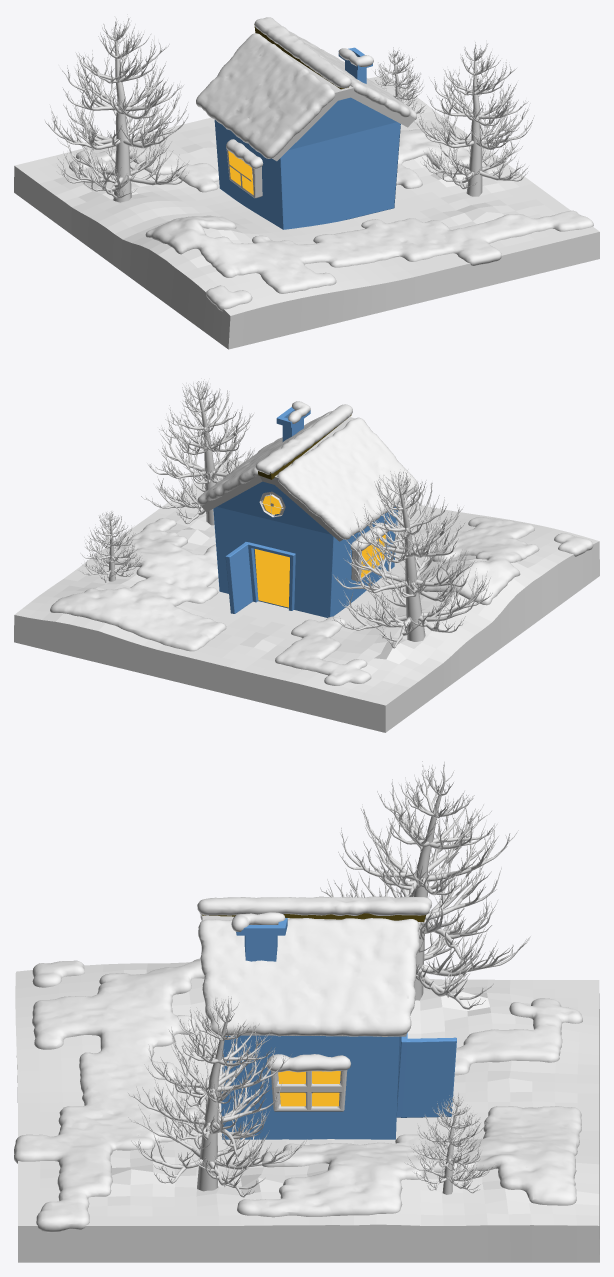
Rendered from winter-casa.glb.
3 views of the same model, one above another, from view 1: azimuth 30°, elevation 25°; view 2: azimuth 150°, elevation 25°; view 3: azimuth 270°, elevation 25° (orthographic). The views are drawn at different scales.
Parts seen in each view (by area): view 1: Plane.006, SnowBall.001, Plane, tree.001, SnowBall.002, tree, SnowBall.005, Plane.001, tree.002, Plane.007, SnowBall.004, Plane.004; view 2: Plane.006, SnowBall.001, Plane, tree.001, SnowBall.002, tree, tree.002, SnowBall.005, Plane.009, Plane.001, Plane.005; view 3: Plane.006, SnowBall.001, SnowBall.002, Plane, tree.001, tree, SnowBall.005, tree.002, Plane.003, Plane.008, Plane.005, SnowBall.003 (+2 smaller).
Part boxes in pixels (x1=…): Plane.006: x1=14, y1=75, x2=599, y2=349; SnowBall.001: x1=69, y1=127, x2=593, y2=311; Plane: x1=214, y1=97, x2=400, y2=229; tree.001: x1=45, y1=14, x2=188, y2=202; SnowBall.002: x1=196, y1=31, x2=416, y2=158; tree: x1=414, y1=40, x2=534, y2=196; SnowBall.005: x1=254, y1=17, x2=351, y2=88; Plane.001: x1=268, y1=41, x2=415, y2=161; tree.002: x1=372, y1=47, x2=425, y2=113; Plane.007: x1=228, y1=151, x2=253, y2=194; SnowBall.004: x1=226, y1=139, x2=263, y2=168; Plane.004: x1=226, y1=149, x2=262, y2=198; Plane.006: x1=14, y1=458, x2=599, y2=732; SnowBall.001: x1=50, y1=461, x2=593, y2=685; Plane: x1=213, y1=481, x2=398, y2=617; tree.001: x1=328, y1=469, x2=492, y2=648; SnowBall.002: x1=197, y1=411, x2=418, y2=539; tree: x1=141, y1=379, x2=254, y2=525; tree.002: x1=78, y1=511, x2=142, y2=582; SnowBall.005: x1=255, y1=404, x2=352, y2=474; Plane.009: x1=254, y1=549, x2=289, y2=607; Plane.001: x1=198, y1=417, x2=355, y2=541; Plane.005: x1=276, y1=407, x2=310, y2=441; Plane.006: x1=15, y1=962, x2=599, y2=1262; SnowBall.001: x1=14, y1=958, x2=582, y2=1232; SnowBall.002: x1=198, y1=913, x2=419, y2=1036; Plane: x1=221, y1=1033, x2=456, y2=1139; tree.001: x1=320, y1=761, x2=530, y2=1009; tree: x1=128, y1=996, x2=307, y2=1197; SnowBall.005: x1=197, y1=896, x2=431, y2=915; tree.002: x1=404, y1=1093, x2=494, y2=1194; Plane.003: x1=271, y1=1070, x2=347, y2=1111; Plane.008: x1=278, y1=1071, x2=340, y2=1106; Plane.005: x1=236, y1=918, x2=287, y2=961; SnowBall.003: x1=266, y1=1054, x2=350, y2=1072.
Bounding box in the file's own units: 8.05 × 4.06 × 7.62.
